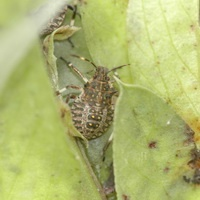insect: (57, 57, 117, 139)
